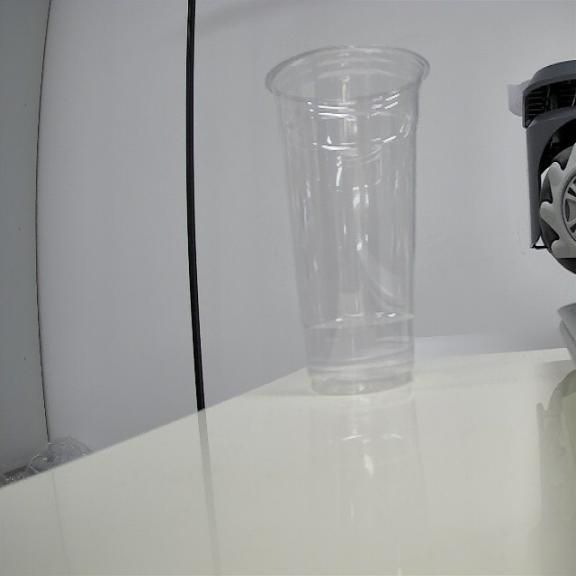Plastik: (267, 46, 429, 394)
